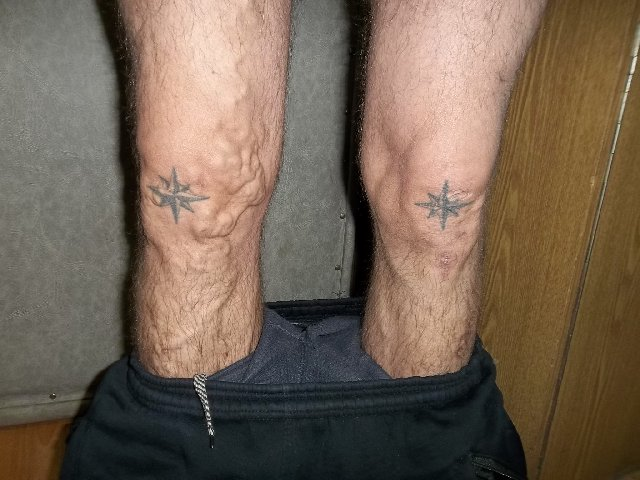tatu4_zvezda: (147, 168, 209, 228), (416, 178, 471, 233)
